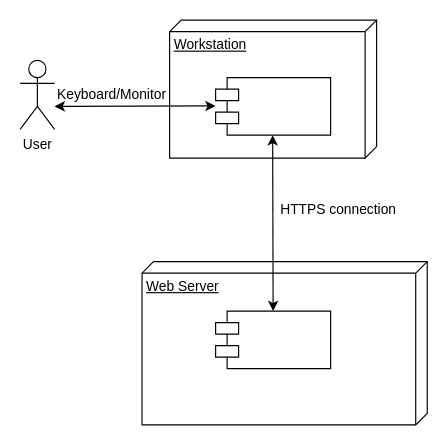
The diagram is 447 pixels wide and 445 high, and some of its shapes have lost their labels. The centre of each missing label's shape, as x and y in pixels:
"Browser" goes at (x=272, y=105).
"Game Files" goes at (x=272, y=339).
